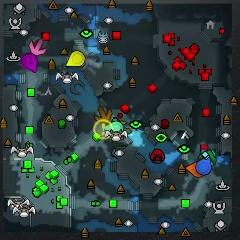p1: (196, 156, 212, 176)
p2: (102, 121, 124, 136)
p3: (19, 54, 38, 73)
p4: (66, 51, 85, 67)
p5: (185, 161, 203, 178)
x1: (29, 38, 46, 56)
x3: (200, 149, 215, 166)
x4: (198, 149, 217, 164)
x5: (95, 106, 113, 122)
